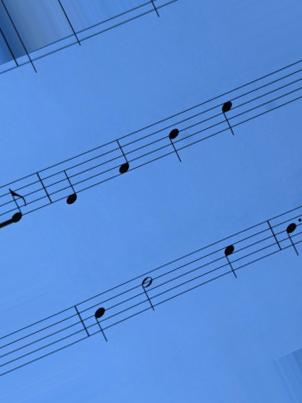B: (88, 298, 116, 347), (272, 218, 301, 264), (162, 121, 190, 166)
D: (56, 160, 88, 208)
F: (108, 135, 138, 177)
HC: (217, 239, 245, 281), (218, 93, 242, 141)
